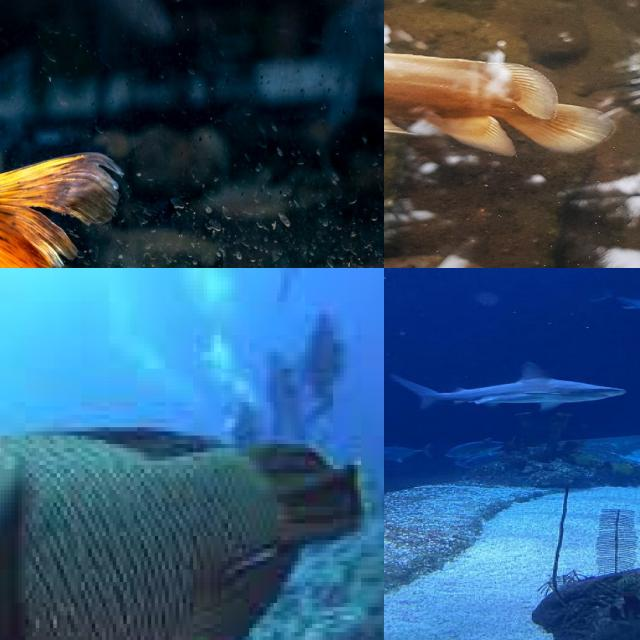fish: (0, 0, 384, 268), (0, 385, 384, 640), (384, 24, 640, 268)
